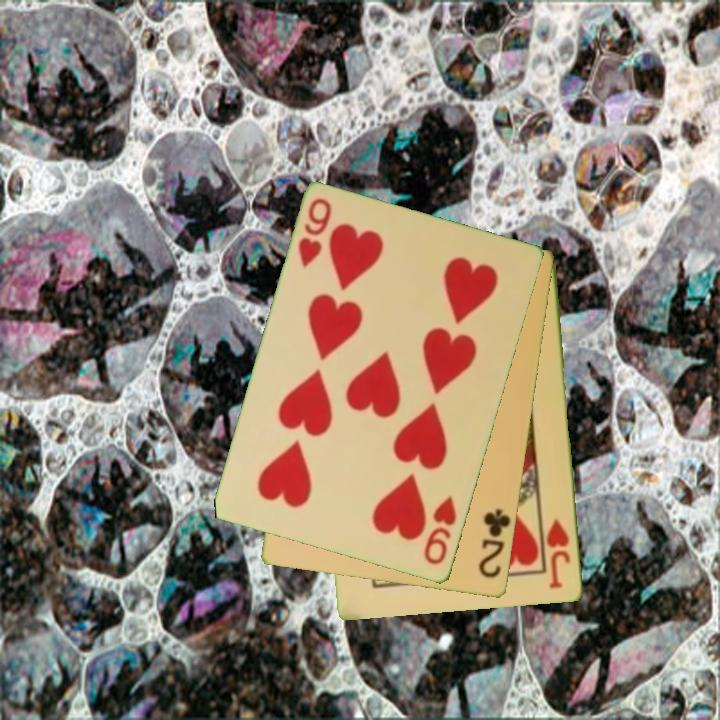2c: (476, 506, 514, 582)
9h: (295, 195, 335, 271), (421, 493, 460, 568)
Jh: (543, 515, 574, 592)
